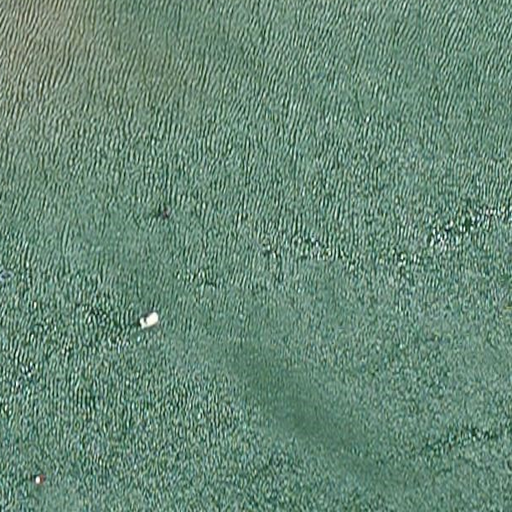ship: (135, 308, 161, 332)
